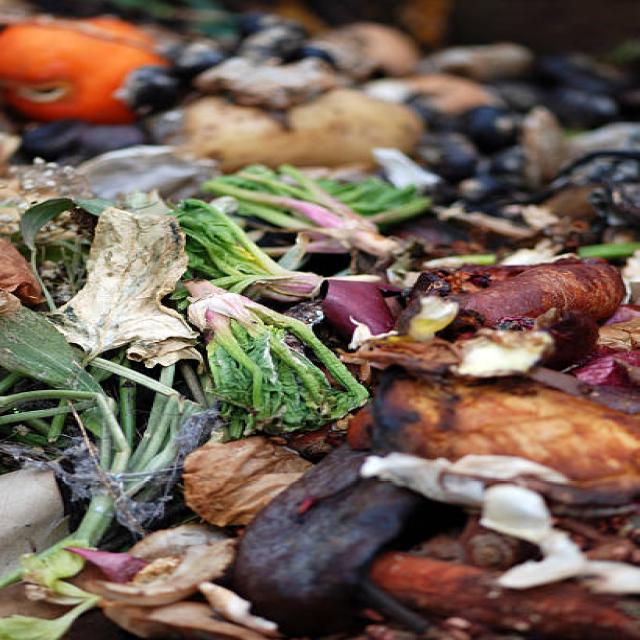trash: (2, 39, 632, 624)
